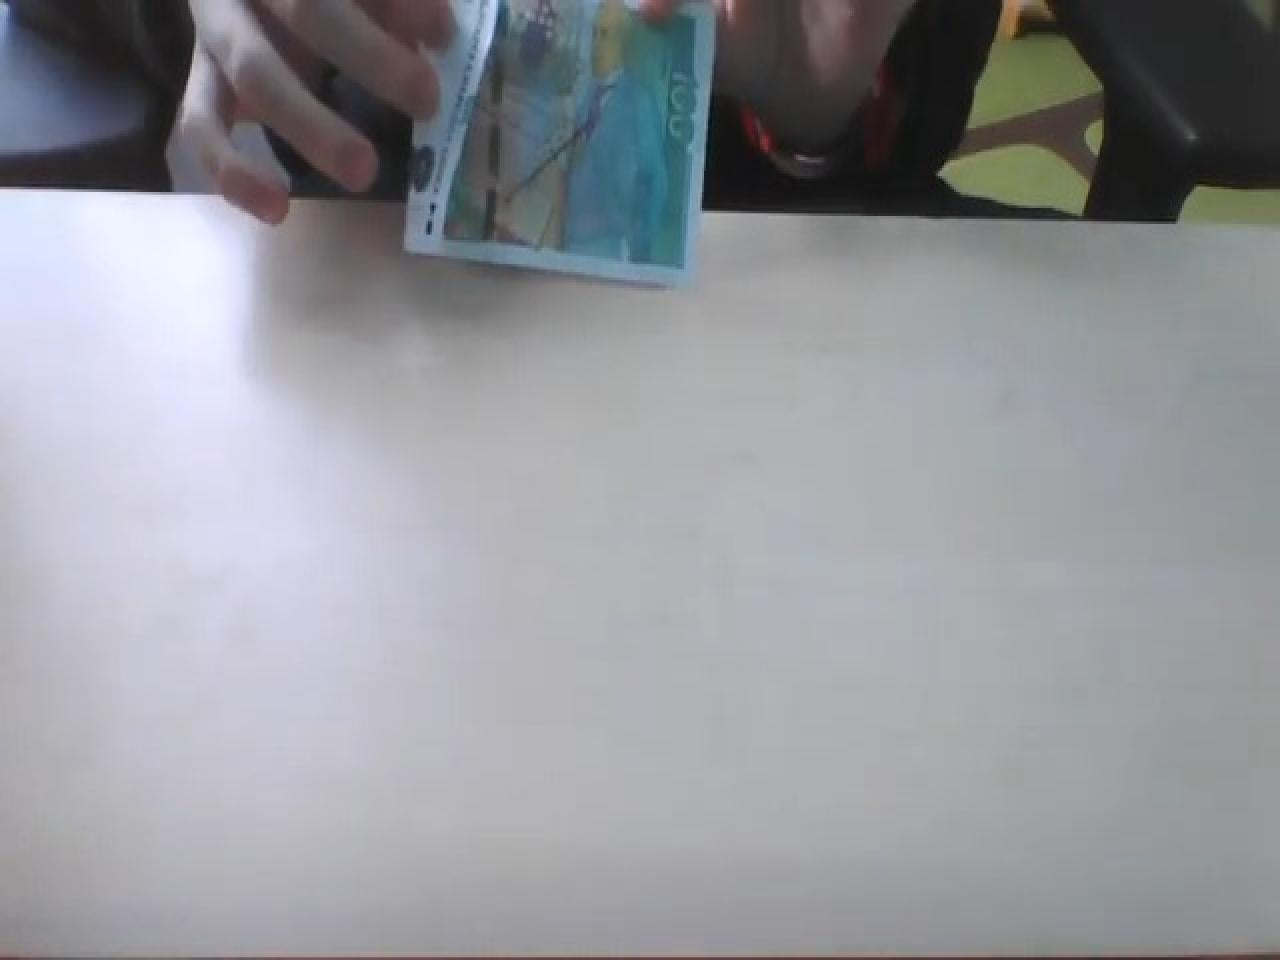100leva: (400, 0, 716, 288)
